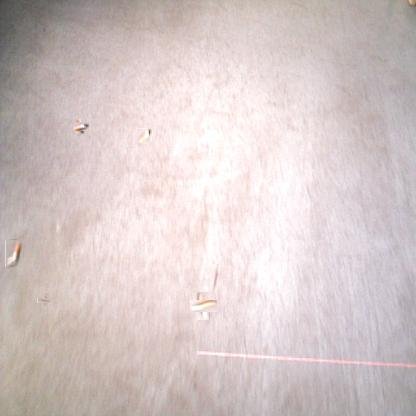dirty: (5, 239, 20, 267), (193, 296, 213, 316), (138, 128, 152, 143), (75, 119, 87, 133)
mark: (213, 264, 219, 290), (40, 295, 50, 306)
